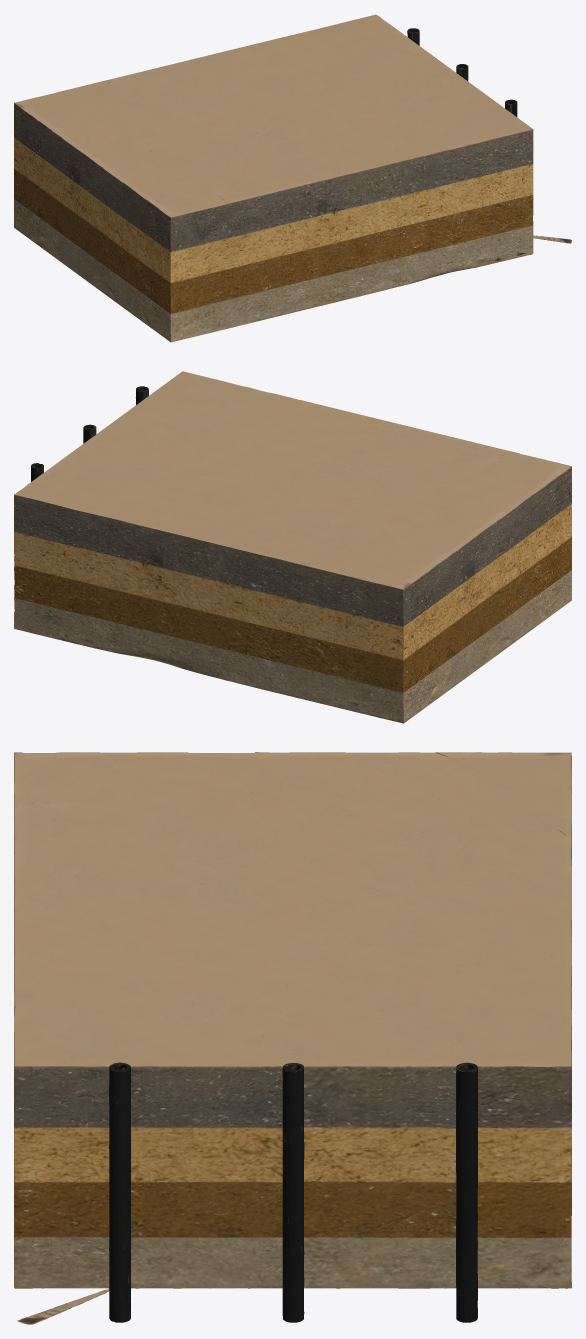
The model's file is слой_03_скважина.glb.
3 renders of one model, top to bottom at view 1: azimuth 30°, elevation 25°; view 2: azimuth 150°, elevation 25°; view 3: azimuth 270°, elevation 25°, orthographic. The views are drawn at different scales.
Bounding box in the file's own units: 1.9 × 0.6464 × 1.27.
Materials: 1 (1 with a texture image).
